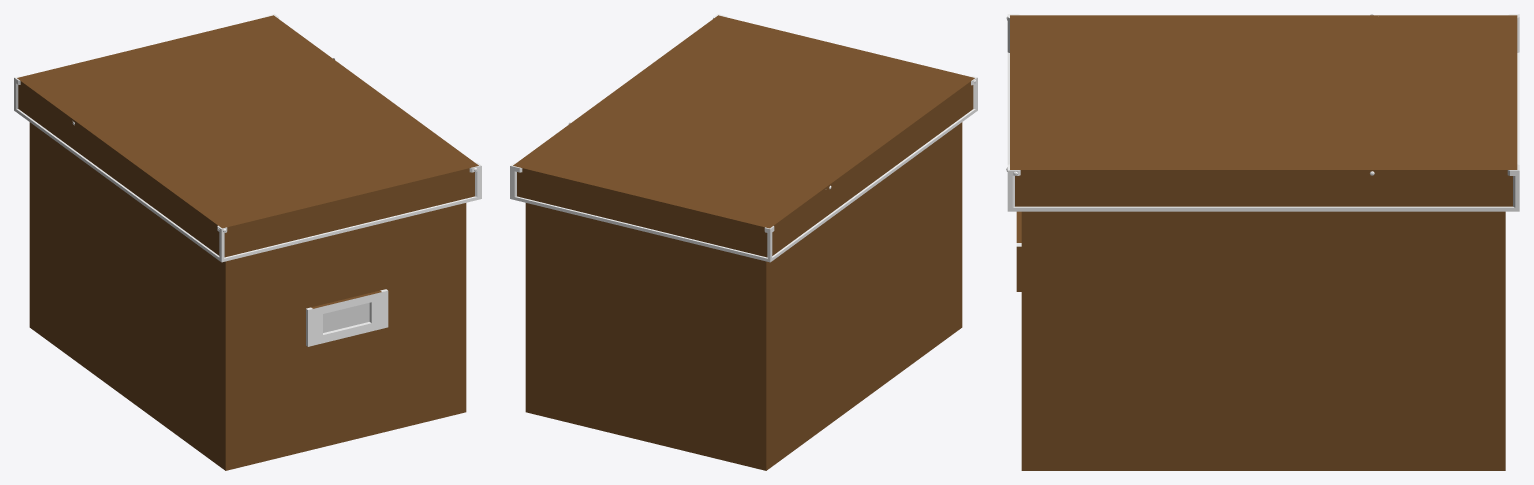
3 views of the same model, side by side, from view 1: azimuth 30°, elevation 25°; view 2: azimuth 150°, elevation 25°; view 3: azimuth 270°, elevation 25° (orthographic). The views are drawn at different scales.
Visible parts, largest first — view 1: Cube, Cube.001; view 2: Cube, Cube.001; view 3: Cube, Cube.001.
Boxes of the visible parts, x1,y1,x2,y2 form: Cube: [29, 122, 466, 470]; Cube.001: [14, 14, 481, 262]; Cube: [525, 122, 962, 470]; Cube.001: [510, 14, 977, 262]; Cube: [1016, 211, 1505, 470]; Cube.001: [1007, 14, 1519, 211].
Size of the model in its own units: 218 by 197 by 299.
